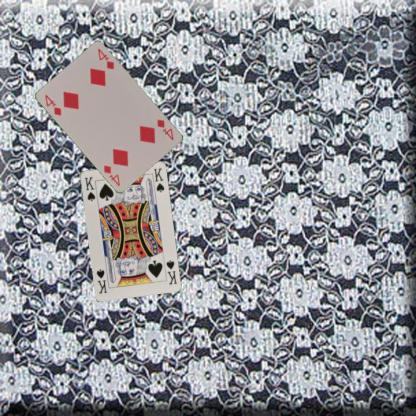4d: (155, 116, 175, 142), (43, 92, 63, 117)
Ks: (163, 257, 178, 286), (82, 174, 96, 202)
